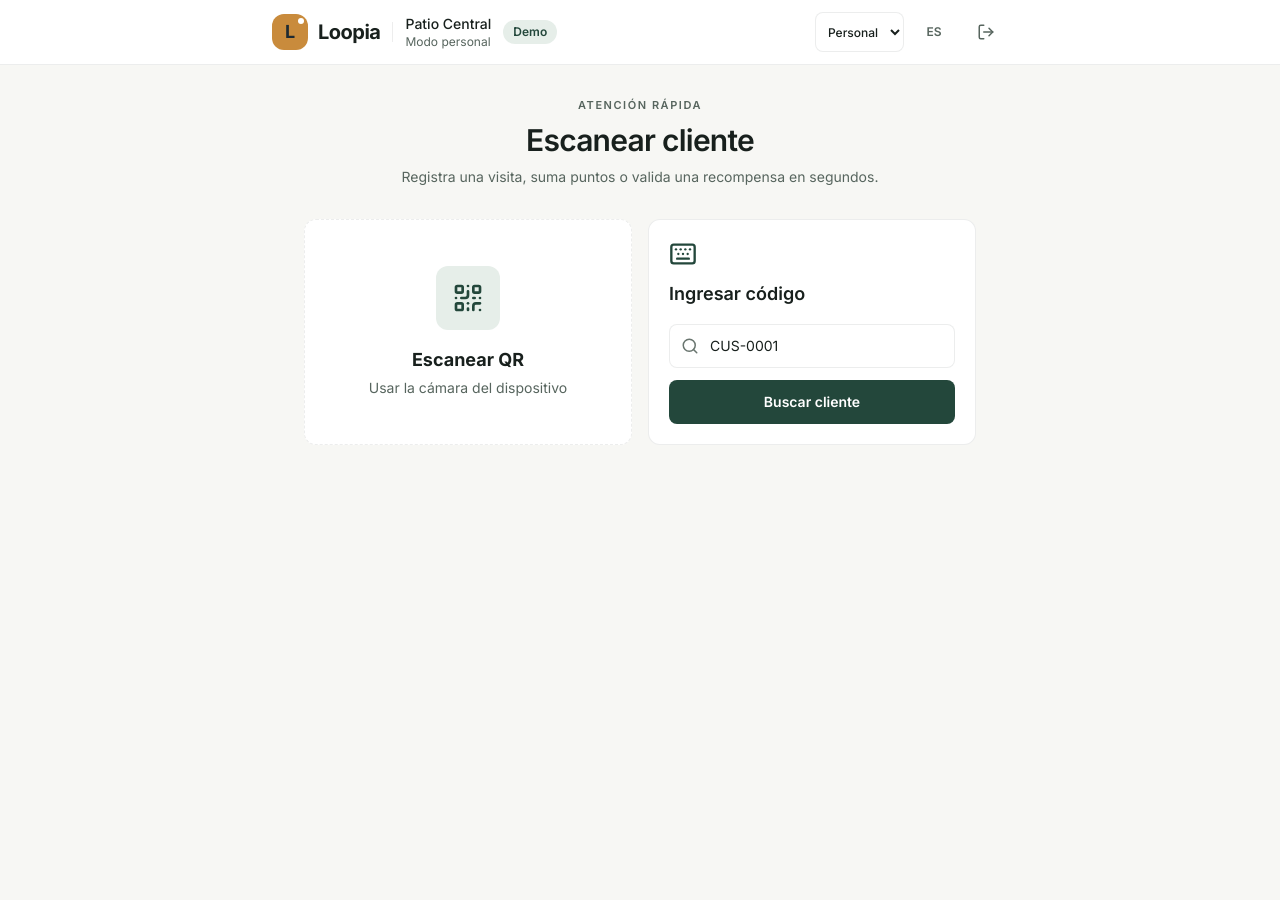
Test: visit creation reaches confirmation
Click the button "Escanear QR Usar la cámara del dispositivo" at (468, 332), box [304,219,632,445]
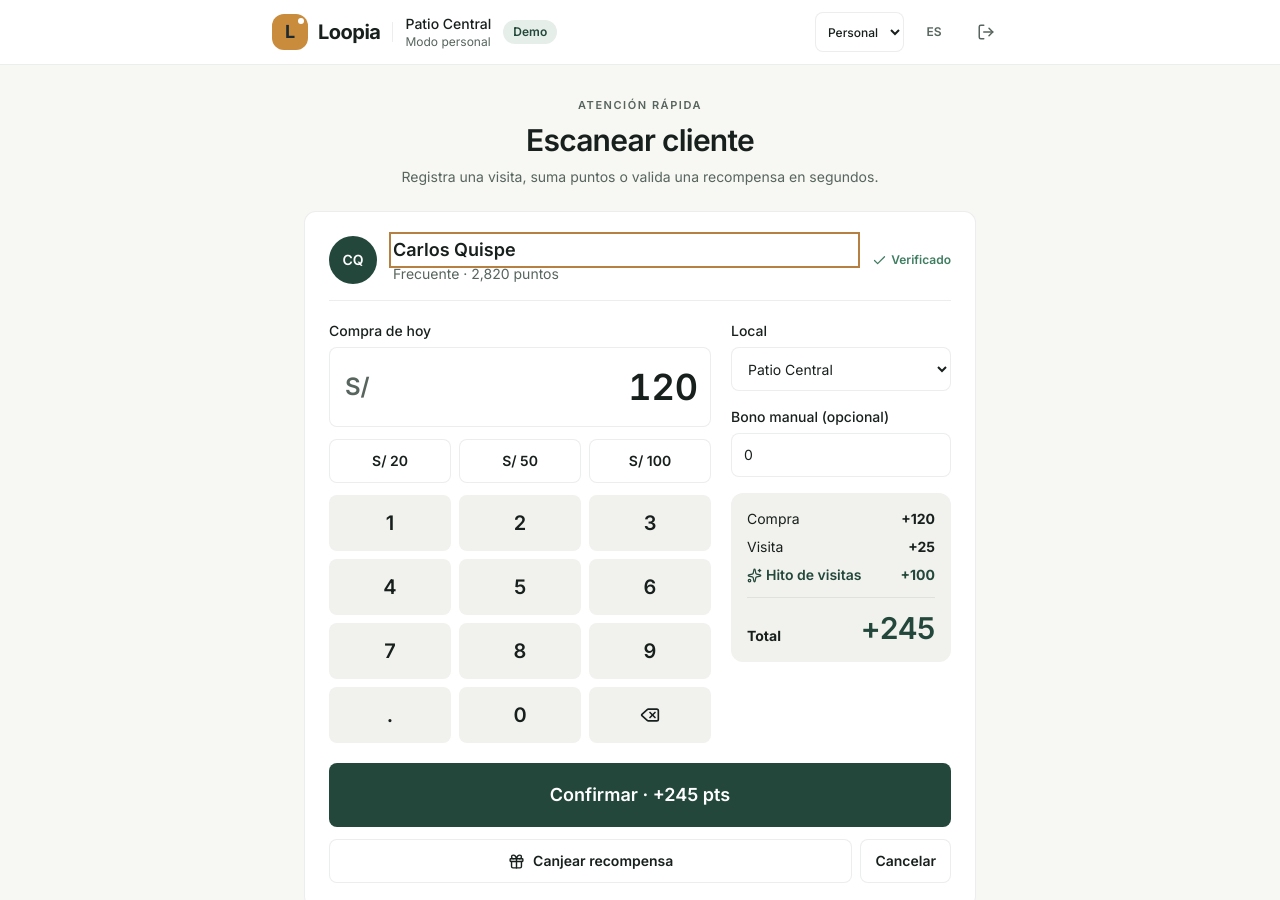
Now the heading "Carlos Quispe" is shown, box [393,239,516,260]
Click the button with aria-label "Registrar visita y puntos" at (640, 795), box [329,763,951,827]
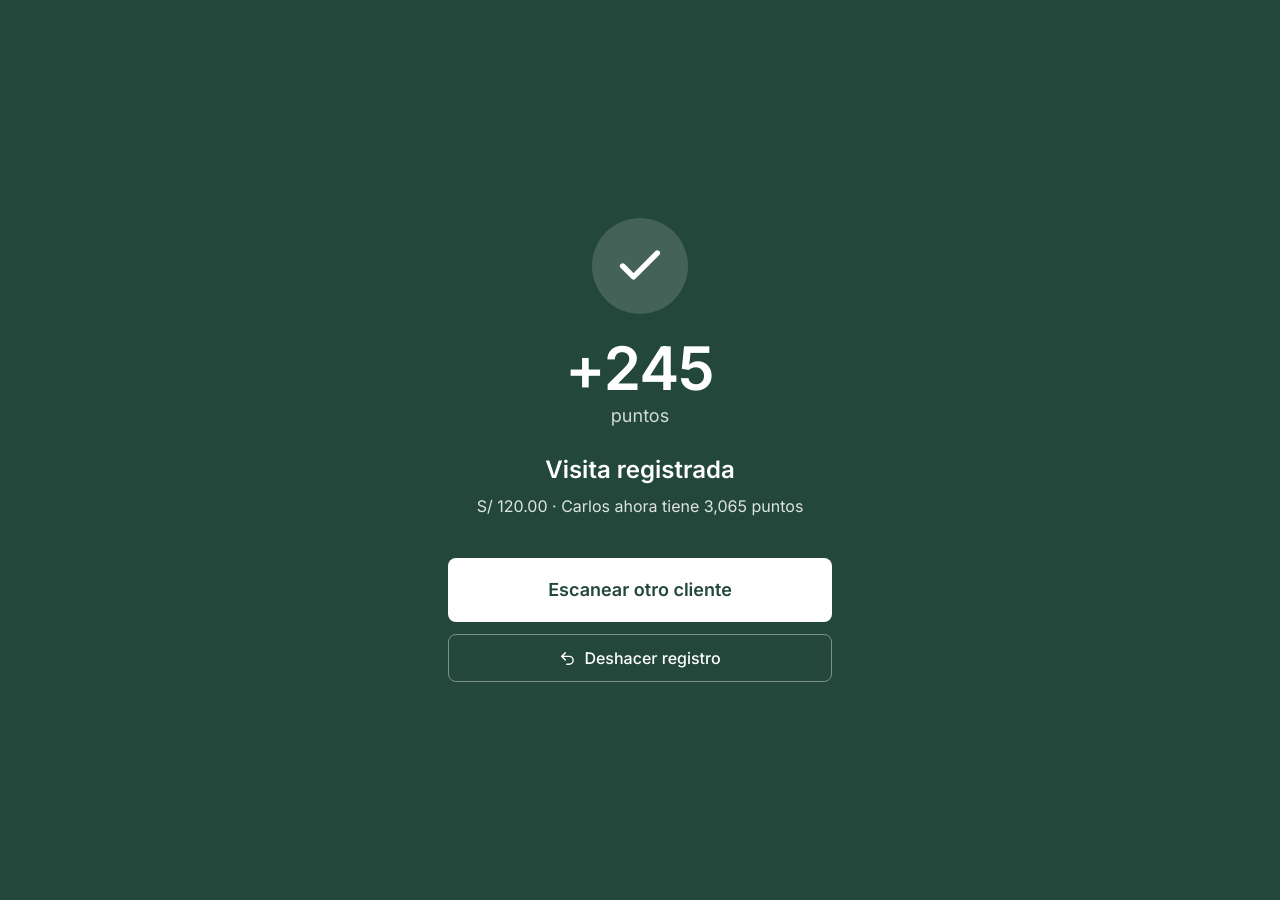
Now the heading "Visita registrada" is shown, box [545,454,735,486]
